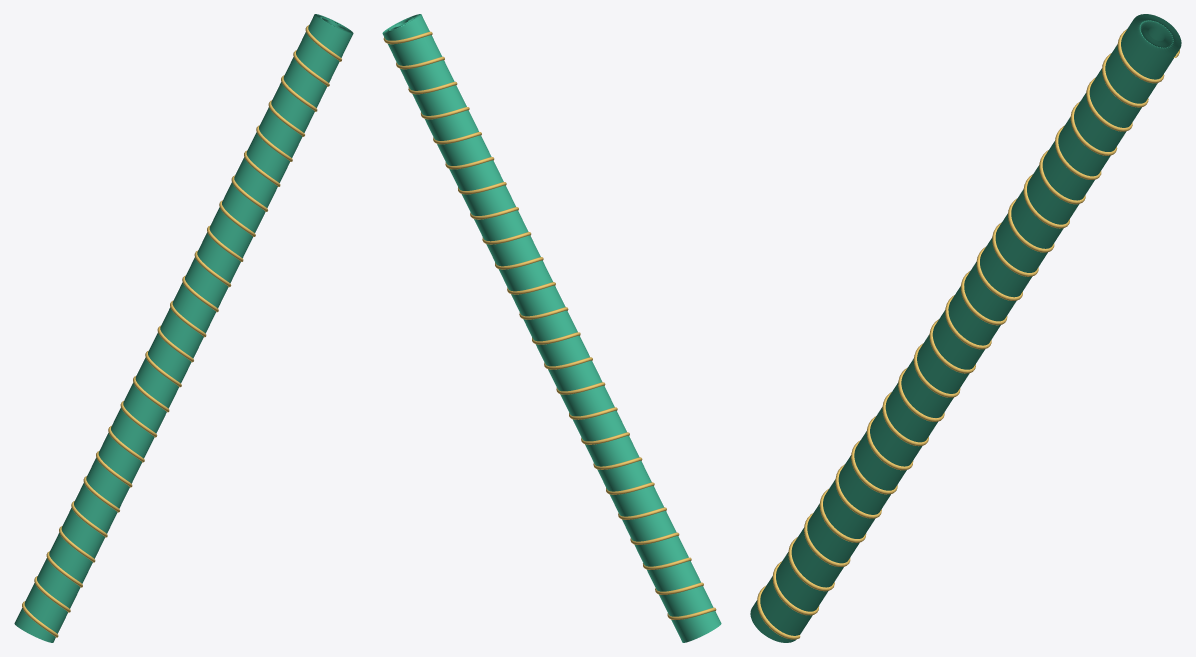
The model's file is mosaico-tabaco.glb.
The picture shows the model from 3 angles, left to right: view 1: azimuth 30°, elevation 25°; view 2: azimuth 150°, elevation 25°; view 3: azimuth 330°, elevation 25°; orthographic projection. The views are drawn at different scales.
Parts seen in each view (by area): view 1: tamanho; view 2: tamanho; view 3: tamanho.
Boxes of the visible parts, x1,y1,x2,y2 form: tamanho: [14, 14, 353, 642]; tamanho: [382, 14, 721, 642]; tamanho: [750, 14, 1181, 642].
Size of the model in its own units: 0.2504 by 0.4 by 0.0307.
